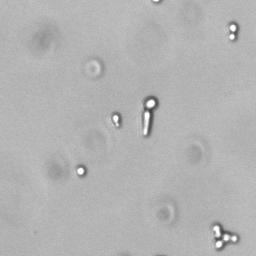budding: (228, 22, 238, 42), (111, 113, 121, 128)
cluster: (212, 224, 241, 250)
elongation: (140, 93, 160, 138)
individual: (76, 166, 85, 176)
